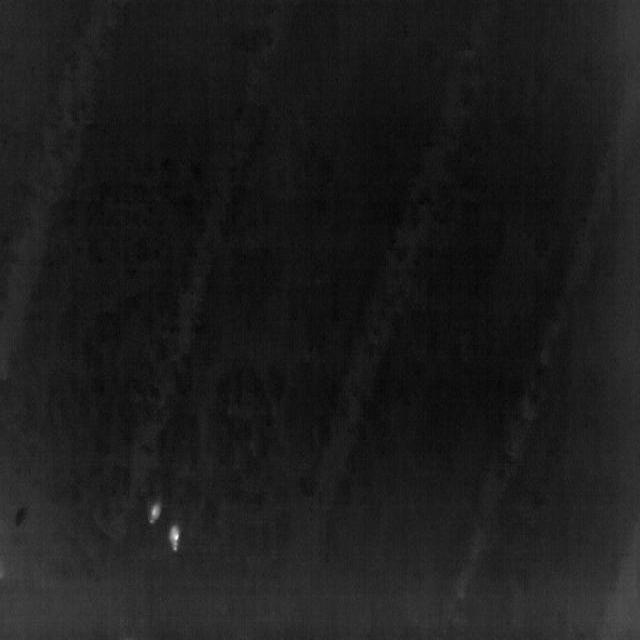deer: (168, 525, 180, 552), (148, 502, 162, 523)
